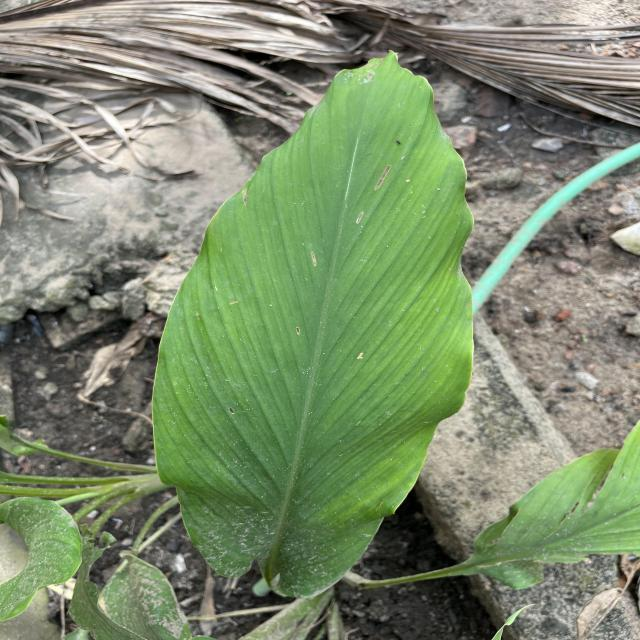Curcuma longa: (148, 44, 479, 604)
